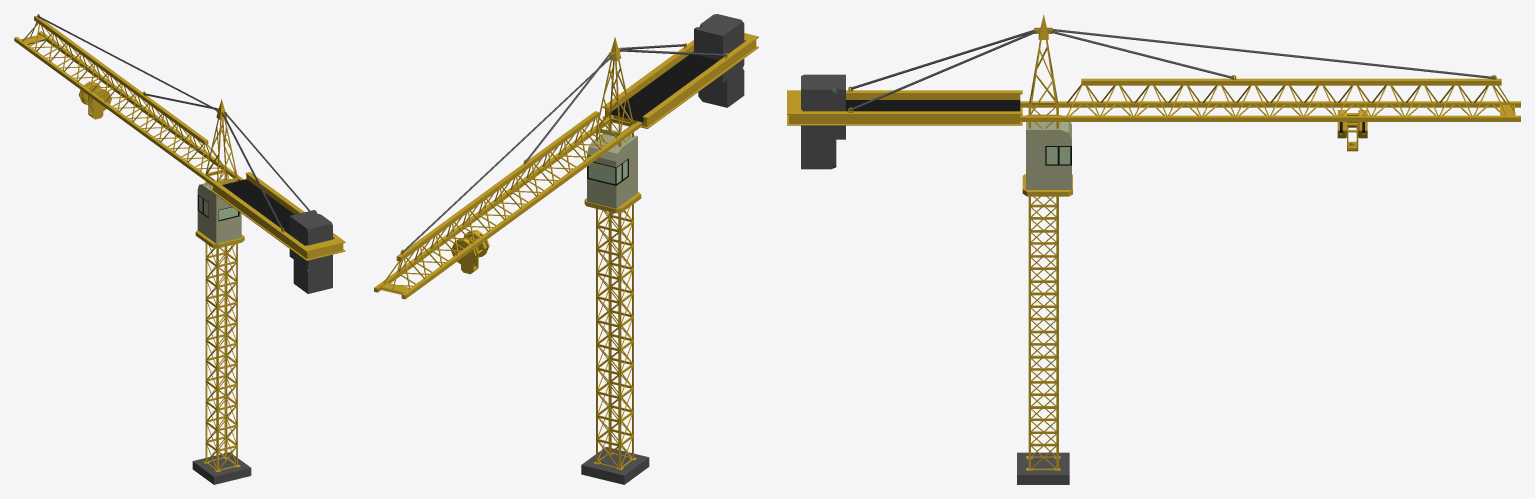
The model's file is CraneNew.fbx.
The picture shows the model from 3 angles, left to right: view 1: azimuth 30°, elevation 25°; view 2: azimuth 150°, elevation 25°; view 3: azimuth 270°, elevation 25°; orthographic projection. The views are drawn at different scales.
Visible parts, largest first — view 1: Crane_Cylinder, Concrete_Cube_007; view 2: Crane_Cylinder, Concrete_Cube_007; view 3: Crane_Cylinder, Concrete_Cube_007.
Boxes of the visible parts, x1,y1,x2,y2 form: Crane_Cylinder: [14, 14, 345, 472]; Concrete_Cube_007: [192, 452, 251, 484]; Crane_Cylinder: [374, 14, 758, 470]; Concrete_Cube_007: [581, 447, 649, 484]; Crane_Cylinder: [787, 14, 1520, 470]; Concrete_Cube_007: [1017, 452, 1069, 484].
Size of the model in its own units: 1.6 by 14.61 by 21.13.
